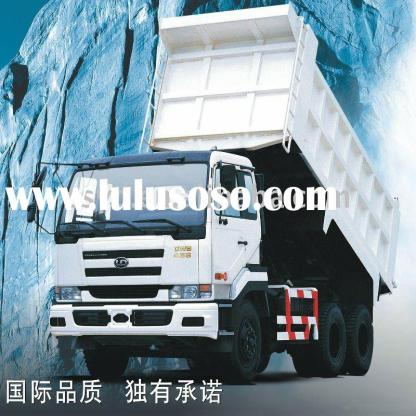dump_truck: (52, 13, 395, 391)
